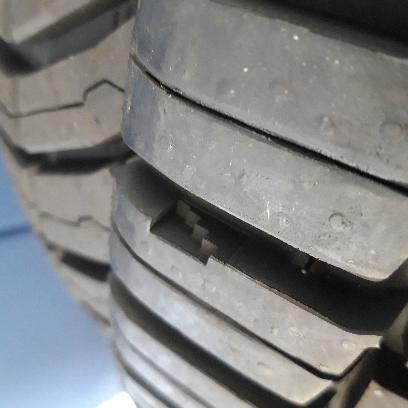temoin:100: (146, 194, 249, 276)
